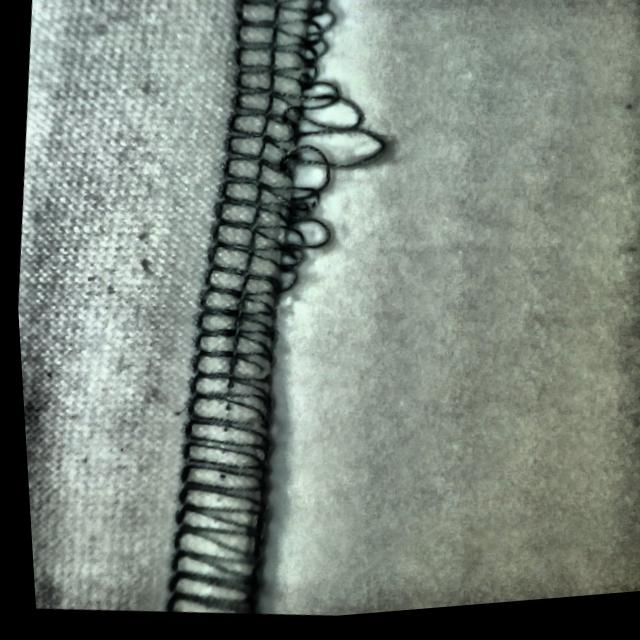Stitch: (182, 0, 407, 309)
